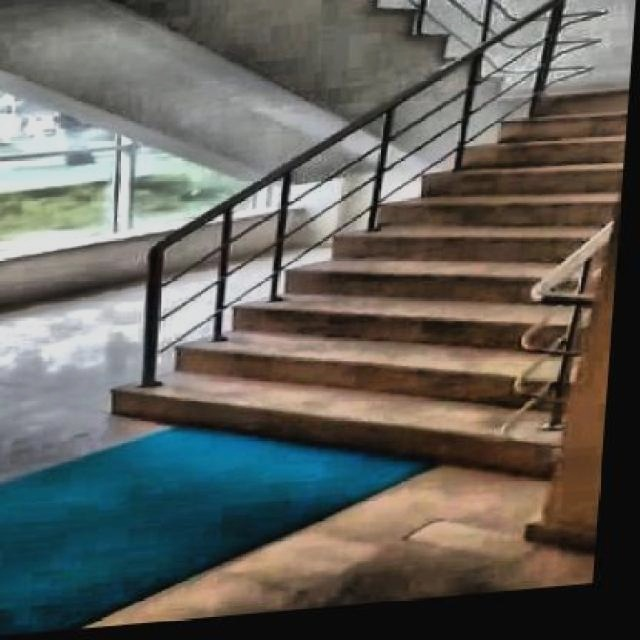stair: (88, 51, 632, 523)
